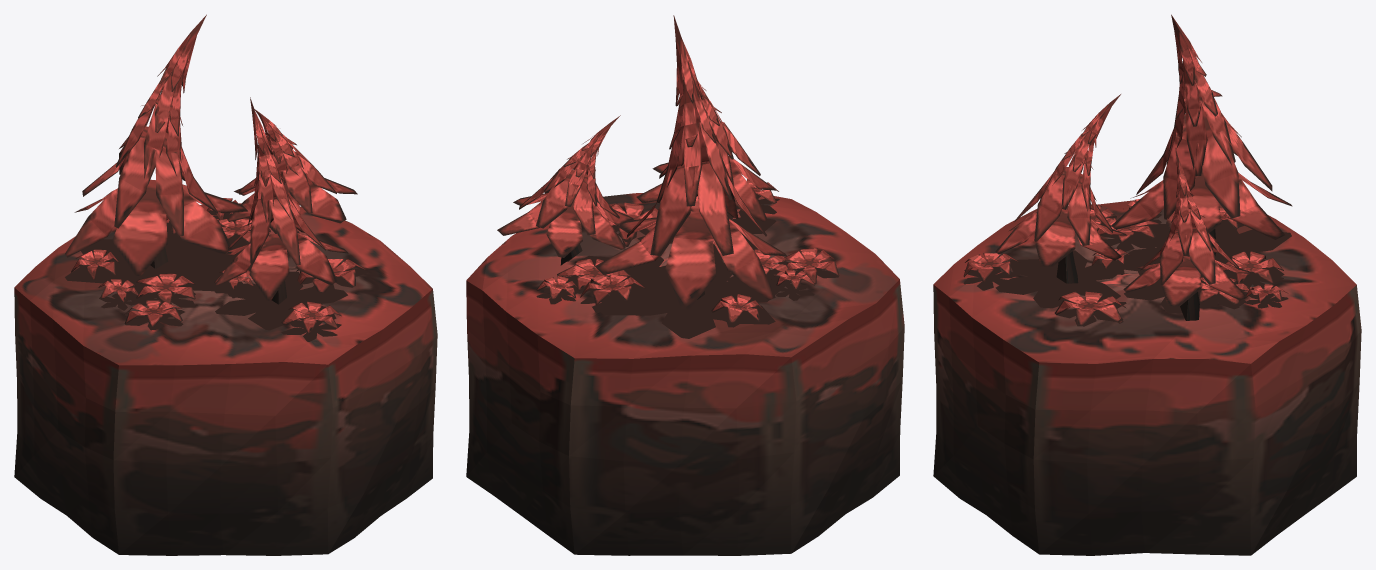
The model's file is tile_forest.fbx.
3 views of the same model, side by side, from view 1: azimuth 30°, elevation 25°; view 2: azimuth 150°, elevation 25°; view 3: azimuth 270°, elevation 25° (orthographic). The views are drawn at different scales.
Parts seen in each view (by area): view 1: Cylinder002, Object013, Object018, Object015, Object014, Object008, Object001, Object010, Object011, Object005, Object003, Object009; view 2: Cylinder002, Object013, Object018, Object014, Object015, Object010, Object007, Object003, Object005, Object011; view 3: Cylinder002, Object013, Object018, Object015, Object014, Object011, Object007, Object001, Object008.
Part boxes in pixels (bbox=[...]): Cylinder002: bbox=[14, 203, 437, 555]; Object013: bbox=[65, 14, 247, 275]; Object018: bbox=[65, 210, 367, 341]; Object015: bbox=[215, 97, 348, 304]; Object014: bbox=[227, 109, 357, 233]; Object008: bbox=[136, 273, 195, 303]; Object001: bbox=[281, 301, 341, 334]; Object010: bbox=[124, 300, 183, 326]; Object011: bbox=[296, 258, 367, 292]; Object005: bbox=[71, 249, 119, 279]; Object003: bbox=[219, 218, 270, 243]; Object009: bbox=[98, 279, 138, 303]; Cylinder002: bbox=[466, 193, 904, 555]; Object013: bbox=[595, 15, 786, 309]; Object018: bbox=[536, 193, 838, 338]; Object014: bbox=[497, 115, 633, 265]; Object015: bbox=[636, 81, 775, 221]; Object010: bbox=[783, 248, 839, 283]; Object007: bbox=[580, 274, 645, 305]; Object003: bbox=[557, 258, 631, 291]; Object005: bbox=[711, 294, 763, 323]; Object011: bbox=[603, 202, 658, 246]; Cylinder002: bbox=[933, 200, 1361, 555]; Object013: bbox=[1111, 14, 1292, 256]; Object018: bbox=[963, 213, 1291, 326]; Object015: bbox=[995, 94, 1126, 283]; Object014: bbox=[1123, 148, 1252, 320]; Object011: bbox=[1055, 291, 1126, 325]; Object007: bbox=[1220, 251, 1283, 283]; Object001: bbox=[963, 253, 1019, 281]; Object008: bbox=[1097, 215, 1160, 242].
Bounding box in the file's own units: 4.36 × 4.72 × 5.64.
1 material, 1 textured.
